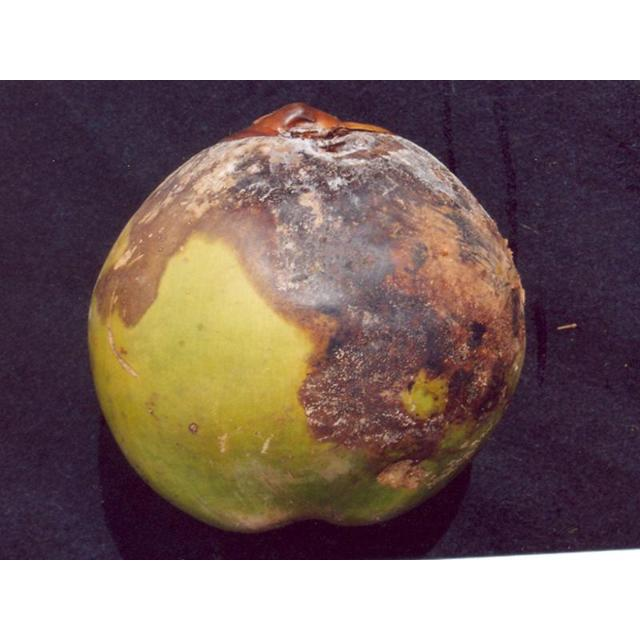damaged: (86, 103, 528, 552)
